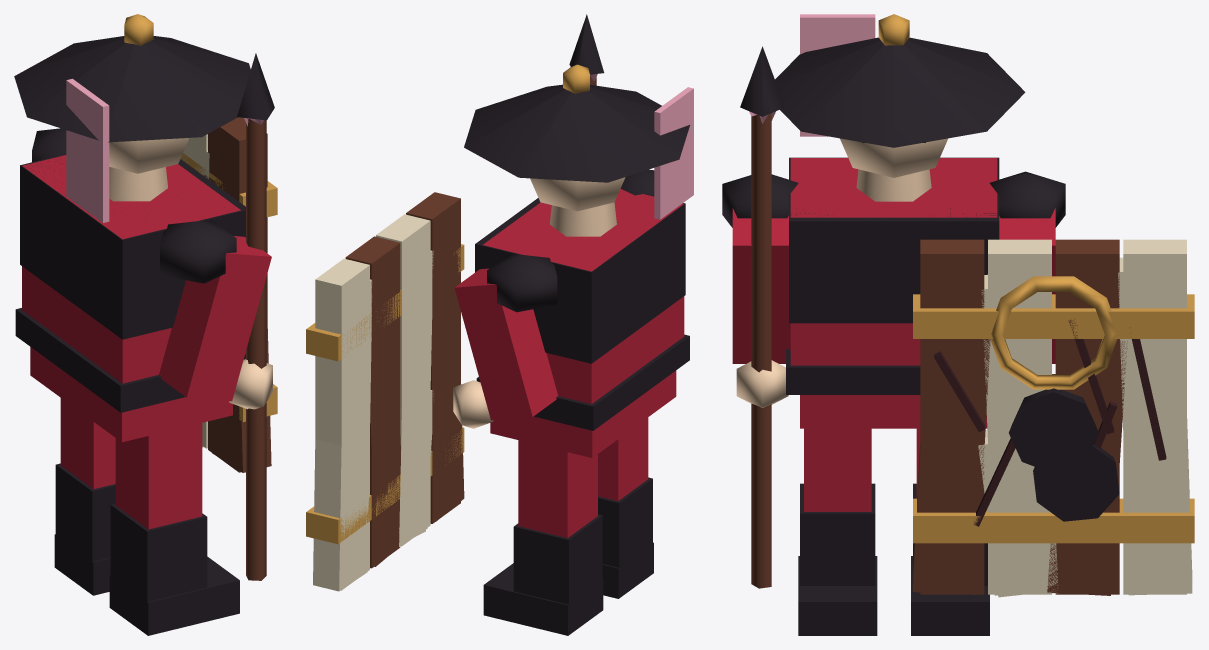
Rendered from enemy_shieldbearer.glb.
The picture shows the model from 3 angles, left to right: view 1: azimuth 30°, elevation 25°; view 2: azimuth 150°, elevation 25°; view 3: azimuth 270°, elevation 25°; orthographic projection. The views are drawn at different scales.
Parts seen in each view (by area): view 1: helmet, cuirass, torso, arm_r_upper, leg_r_thigh, spear_shaft, leg_r_greave, pelvis, sashimono, leg_r_boot, belt, shield_3_plank_3 (+15 smaller); view 2: helmet, cuirass, torso, shield_3_plank_0, shield_3_plank_1, shield_3_plank_2, arm_l_upper, shield_1_plank_0, shield_3_plank_3, leg_l_thigh, leg_l_greave, shield_2_plank_3 (+19 smaller); view 3: helmet, shield_3_plank_0, cuirass, torso, shield_1_plank_0, shield_2_plank_3, shield_3_plank_3, shield_2_plank_2, spear_shaft, shield_3_plank_2, shield_3_band_1, shield_3_band_0 (+27 smaller).
Boxes of the visible parts, x1,y1,x2,y2 form: helmet: (14, 36, 250, 142); cuirass: (20, 154, 245, 339); torso: (22, 155, 240, 383); arm_r_upper: (159, 236, 271, 401); leg_r_thigh: (115, 423, 202, 529); spear_shaft: (246, 119, 266, 580); leg_r_greave: (110, 503, 207, 605); pelvis: (30, 347, 232, 442); sashimono: (66, 78, 109, 222); leg_r_boot: (109, 556, 239, 635); belt: (15, 308, 245, 412); shield_3_plank_3: (208, 117, 267, 472); helmet: (464, 84, 689, 182); cuirass: (475, 193, 685, 363); torso: (483, 189, 684, 404); shield_3_plank_0: (315, 258, 369, 590); shield_3_plank_1: (345, 236, 400, 568); shield_3_plank_2: (376, 214, 430, 546); arm_l_upper: (454, 268, 557, 420); shield_1_plank_0: (313, 279, 372, 591); shield_3_plank_3: (406, 192, 460, 523); leg_l_thigh: (518, 440, 597, 537); leg_l_greave: (513, 514, 602, 604); shield_2_plank_3: (430, 253, 464, 521); helmet: (775, 37, 1025, 147); shield_3_plank_0: (1123, 239, 1186, 594); cuirass: (789, 157, 999, 323); torso: (790, 158, 997, 365); shield_1_plank_0: (1118, 257, 1192, 595); shield_2_plank_3: (912, 339, 990, 594); shield_3_plank_3: (920, 239, 984, 594); shield_2_plank_2: (981, 274, 1057, 595); spear_shaft: (751, 113, 771, 588); shield_3_plank_2: (988, 239, 1051, 594); shield_3_band_1: (913, 498, 1194, 543); shield_3_band_0: (913, 294, 1194, 338).
Bounding box in the file's own units: 0.171 × 0.349 × 0.2514.
